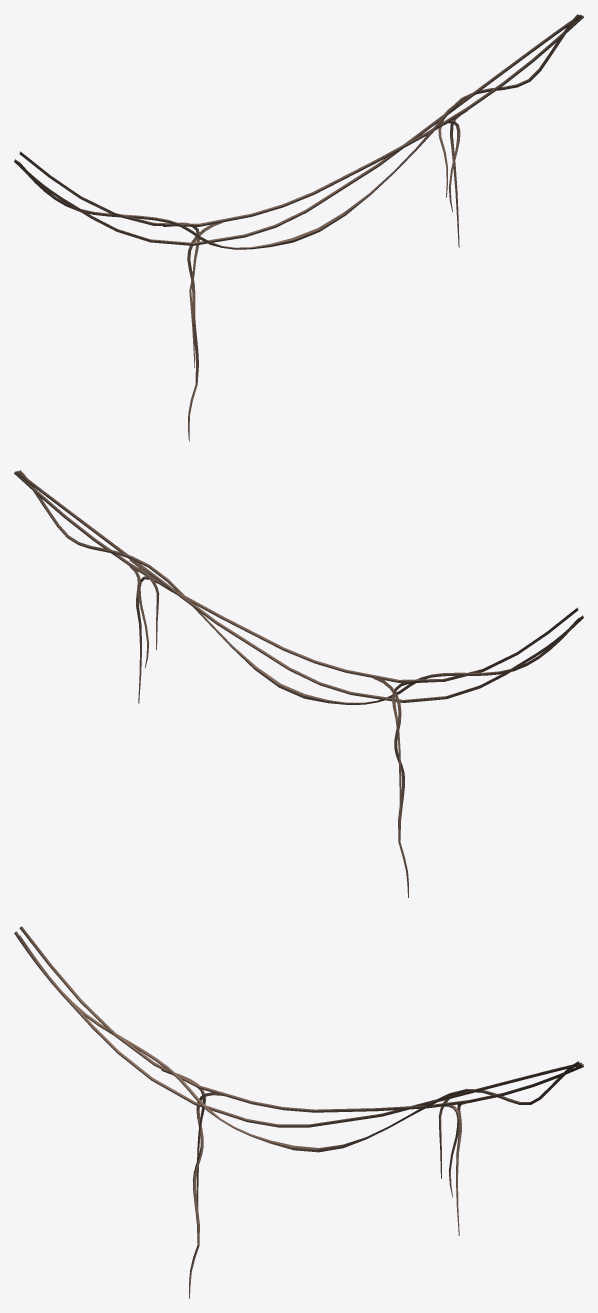
File: Jungle_HangingVines_A.fbx
3 views of the same model, one above another, from view 1: azimuth 30°, elevation 25°; view 2: azimuth 150°, elevation 25°; view 3: azimuth 330°, elevation 25° (orthographic).
Parts seen in each view (by area): view 1: Jungle_HangingVines_A; view 2: Jungle_HangingVines_A; view 3: Jungle_HangingVines_A.
Boxes of the visible parts, <box> form: Jungle_HangingVines_A: <box>14,14,583,441</box>; Jungle_HangingVines_A: <box>14,470,583,897</box>; Jungle_HangingVines_A: <box>14,926,583,1298</box>.
Bounding box in the file's own units: 14.33 × 7.98 × 0.4127.
1 material, 1 textured.
